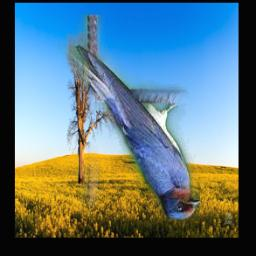Swallow: (24, 16, 200, 220)
